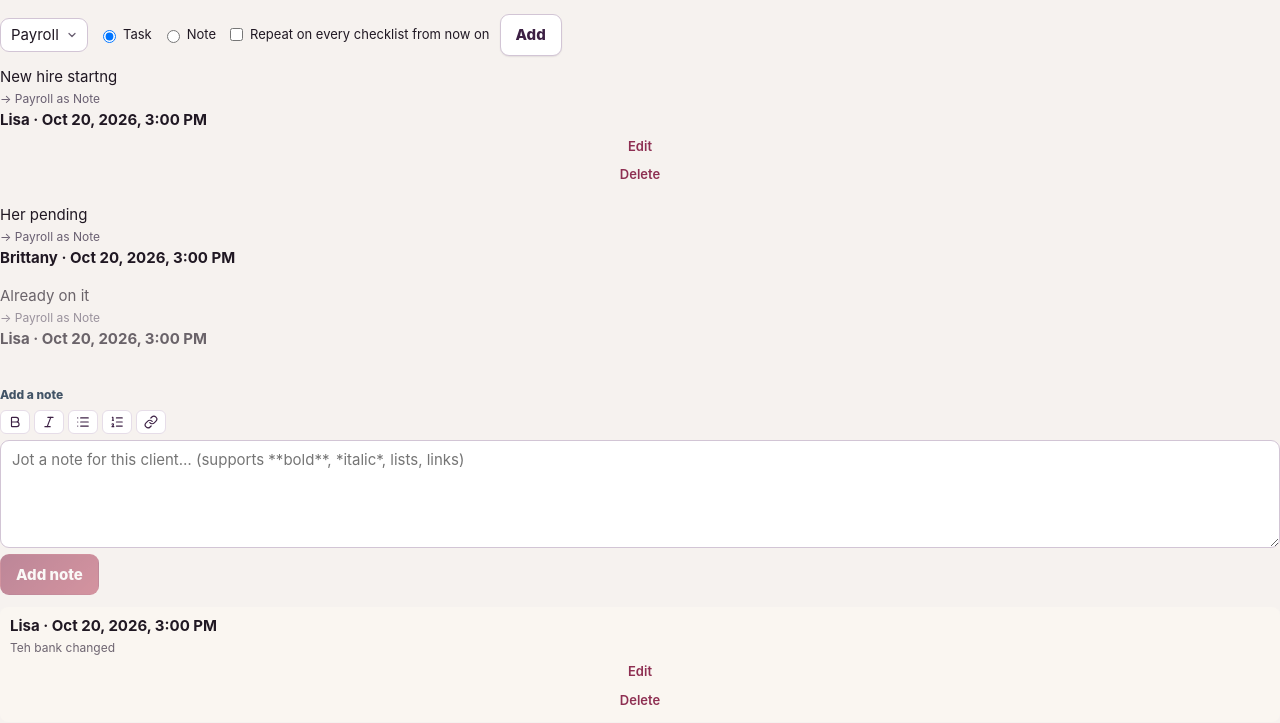
Test: the notes log › Cancel puts the note back as it was, and nothing is sent
This screenshot has width=1280, height=723.
Check: the list item "Teh bank changed" is shown, box [10,640,115,655]
Click the button "Edit" below "Teh bank changed".
click(640, 672)  # box [10,658,1270,685]
(page scrolled)
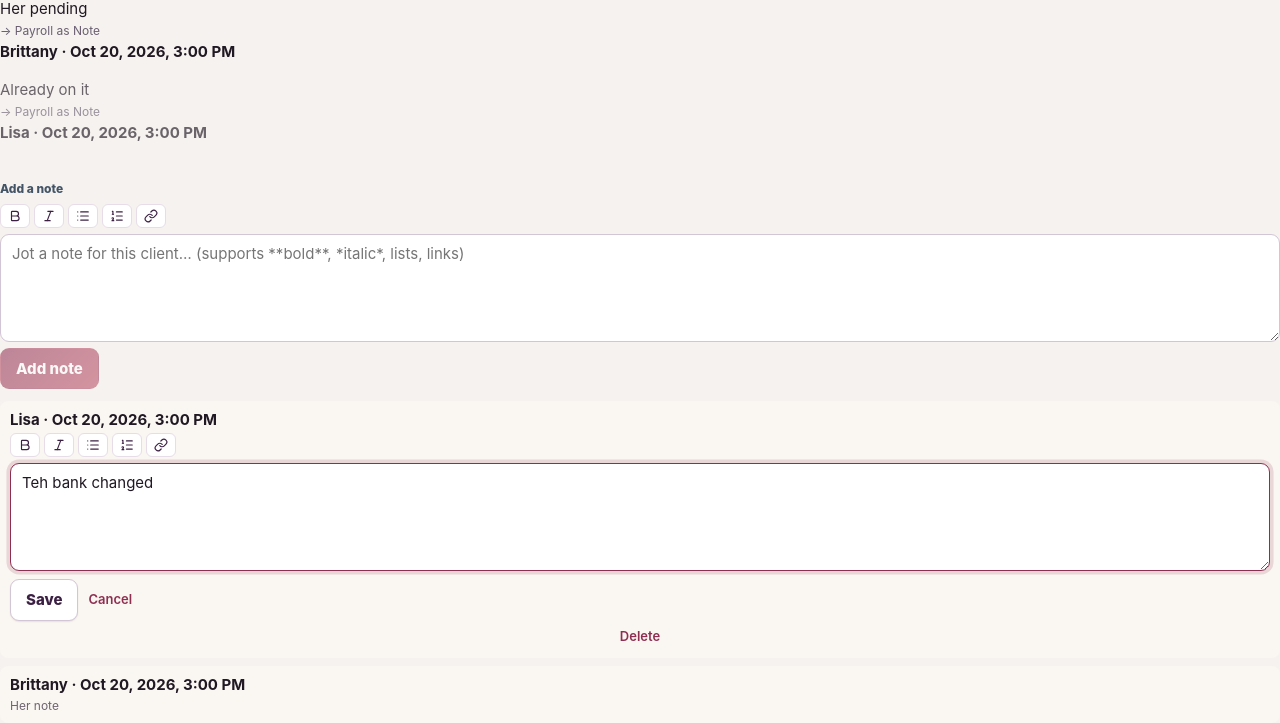
Replace the text in the text box named "Edit note" with "Something else" at (640, 517), box [10,463,1270,571]
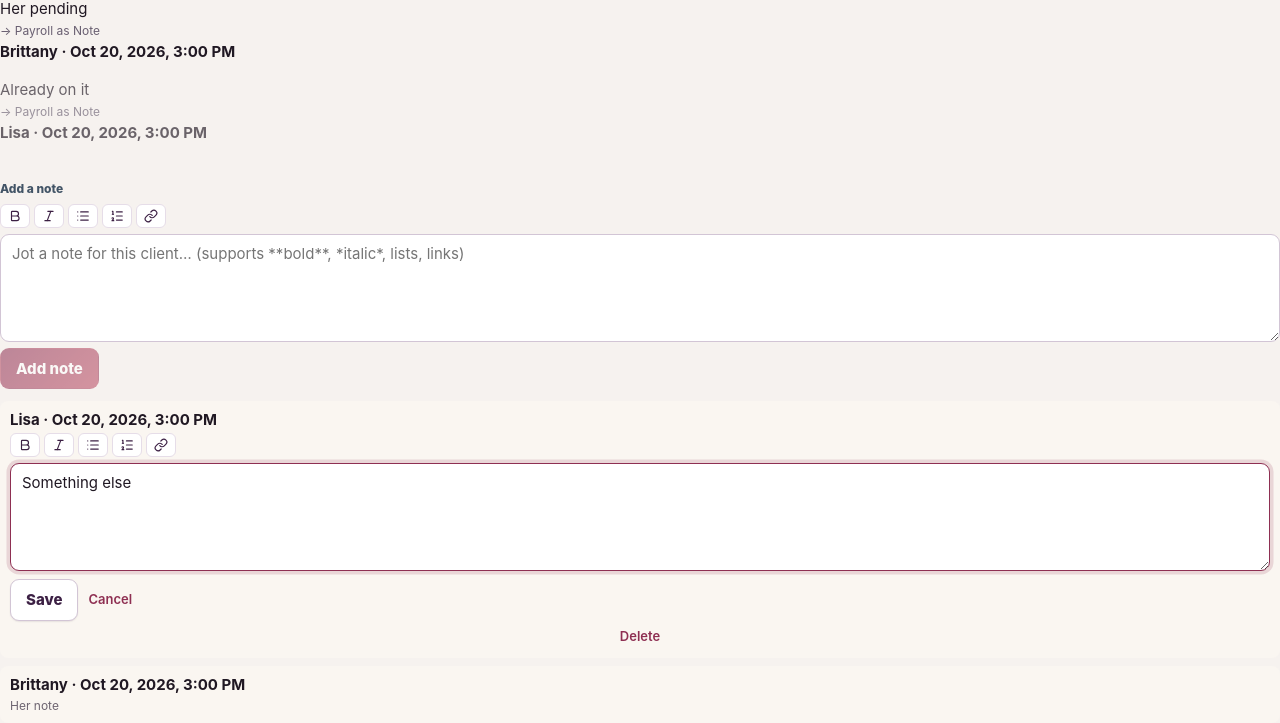
Click the button "Cancel".
click(110, 600)  # box [88,586,132,613]
(page scrolled)
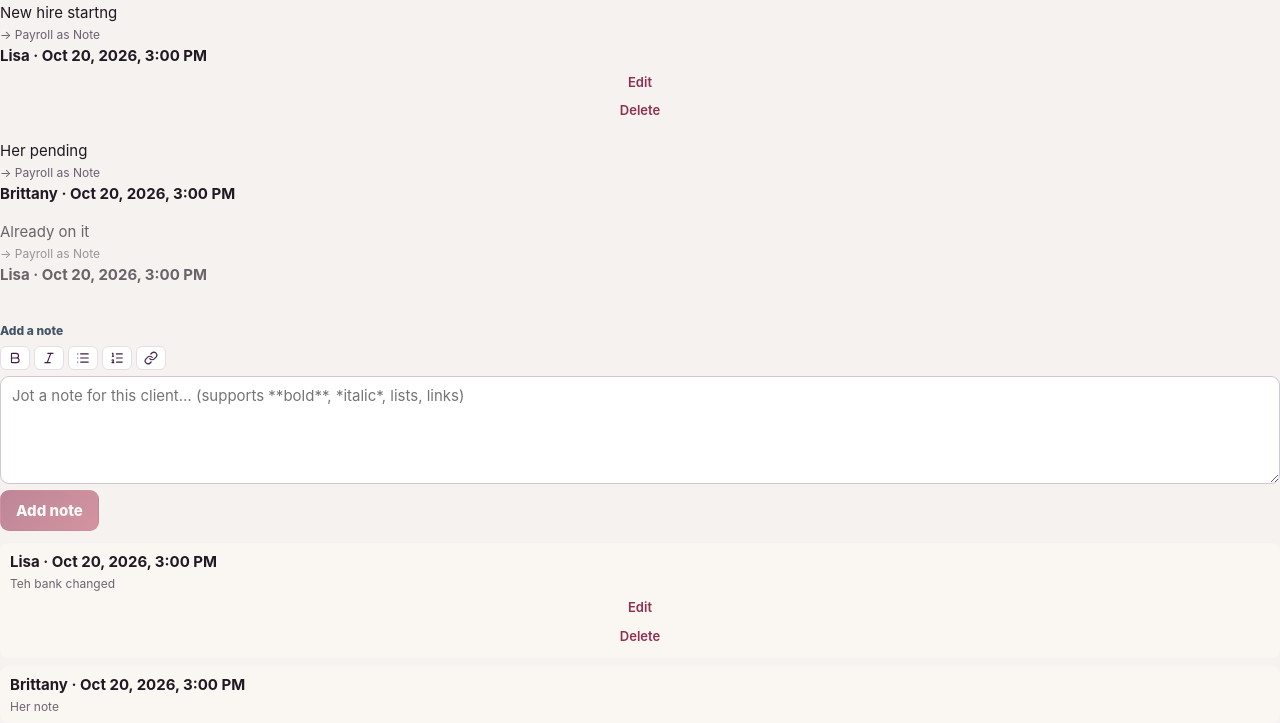
Check: the list item "Teh bank changed" is shown, box [10,576,115,591]
Opening it again starts from the saved words, not the abandoned draft.
Click the button "Edit" below "Teh bank changed".
click(640, 608)  # box [10,594,1270,621]
(page scrolled)
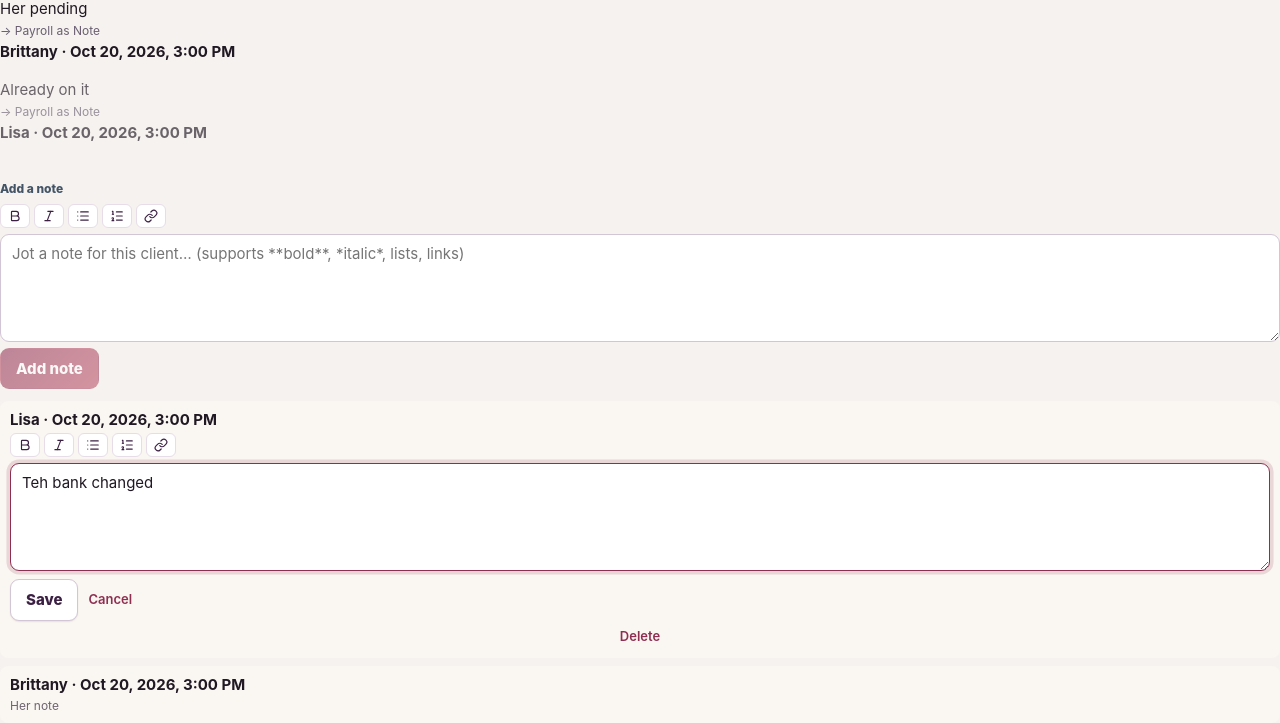
Check: the text box named "Edit note" holds "Teh bank changed", box [10,463,1270,571]
